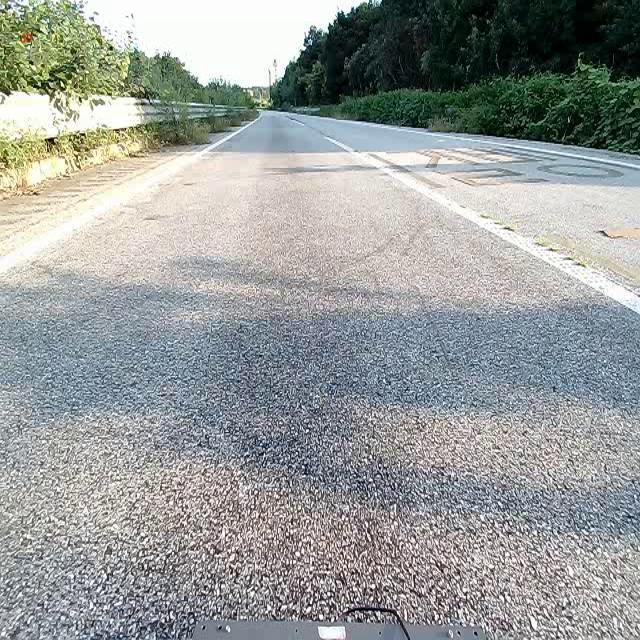Lane: (323, 128, 640, 314), (328, 137, 639, 314), (0, 108, 263, 280), (0, 120, 257, 277)
